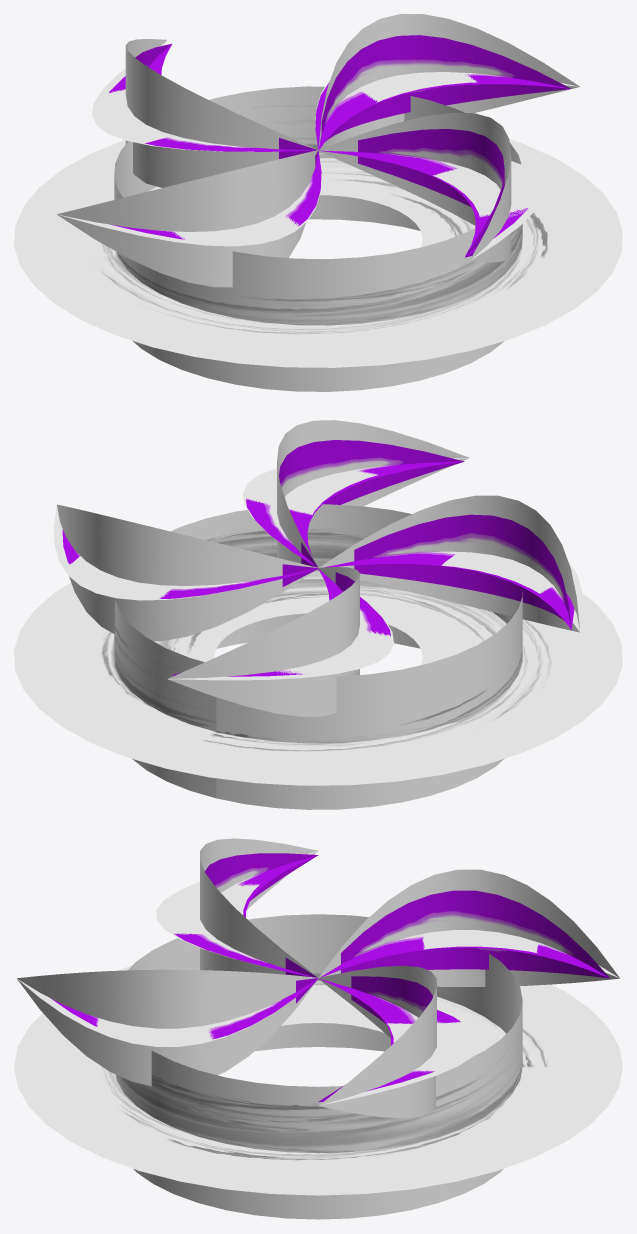
The model's file is effect_role@senluo_yinhunbusan04.fbx.
3 renders of one model, top to bottom at view 1: azimuth 30°, elevation 25°; view 2: azimuth 150°, elevation 25°; view 3: azimuth 270°, elevation 25°, orthographic.
Visible parts, largest first — view 1: effect_mesh@senluo_yinhunbusan_quan01, effect_mesh@senluo_yinhunbusan_xishougongji02, effect_mesh@senluo_yinhunbusan_xishougongji01, effect_mesh@senluo_yinhunbusan_xishougongji03; view 2: effect_mesh@senluo_yinhunbusan_quan01, effect_mesh@senluo_yinhunbusan_xishougongji02, effect_mesh@senluo_yinhunbusan_xishougongji01, effect_mesh@senluo_yinhunbusan_xishougongji03; view 3: effect_mesh@senluo_yinhunbusan_quan01, effect_mesh@senluo_yinhunbusan_xishougongji02, effect_mesh@senluo_yinhunbusan_xishougongji01, effect_mesh@senluo_yinhunbusan_xishougongji03.
Part boxes in pixels (x1,y1,x2,y2): effect_mesh@senluo_yinhunbusan_quan01: [14, 86, 622, 391]; effect_mesh@senluo_yinhunbusan_xishougongji02: [57, 41, 578, 287]; effect_mesh@senluo_yinhunbusan_xishougongji01: [109, 35, 571, 257]; effect_mesh@senluo_yinhunbusan_xishougongji03: [59, 14, 579, 245]; effect_mesh@senluo_yinhunbusan_quan01: [14, 504, 622, 809]; effect_mesh@senluo_yinhunbusan_xishougongji02: [53, 458, 583, 716]; effect_mesh@senluo_yinhunbusan_xishougongji01: [62, 440, 574, 676]; effect_mesh@senluo_yinhunbusan_xishougongji03: [53, 420, 582, 680]; effect_mesh@senluo_yinhunbusan_quan01: [14, 914, 622, 1219]; effect_mesh@senluo_yinhunbusan_xishougongji02: [17, 851, 618, 1118]; effect_mesh@senluo_yinhunbusan_xishougongji01: [52, 853, 609, 1101]; effect_mesh@senluo_yinhunbusan_xishougongji03: [25, 838, 619, 1101].
Size of the model in its own units: 2.35 by 0.9101 by 2.35.
